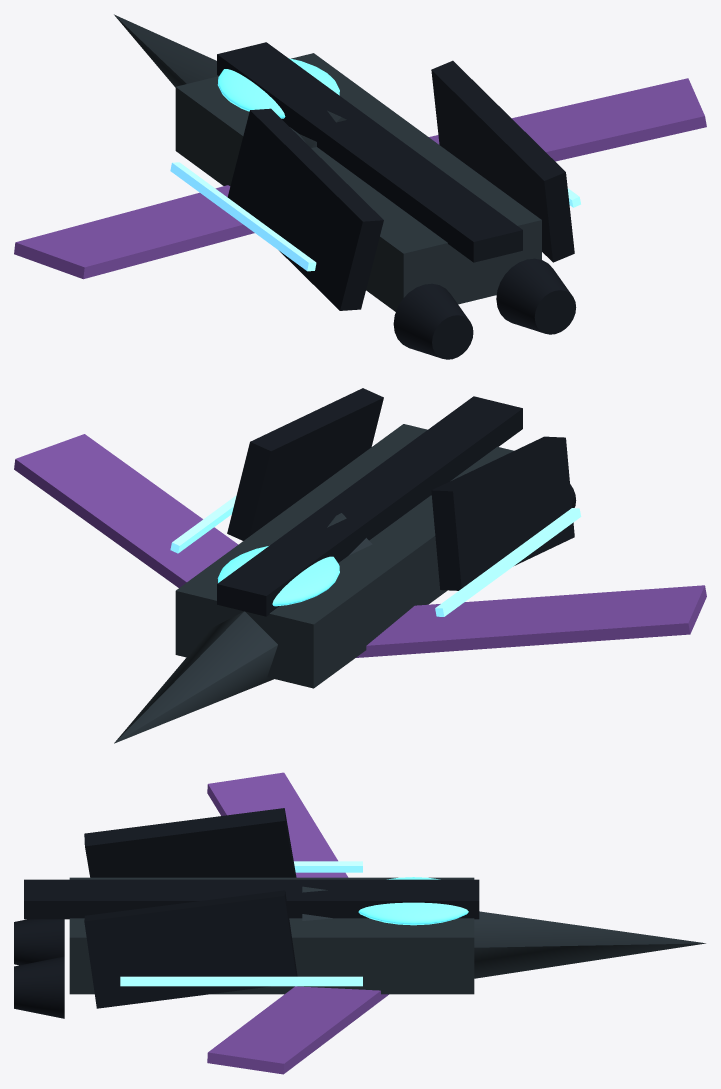
Rendered from veil-runner.glb.
3 views of the same model, one above another, from view 1: azimuth 30°, elevation 25°; view 2: azimuth 150°, elevation 25°; view 3: azimuth 270°, elevation 25° (orthographic). The views are drawn at different scales.
Parts seen in each view (by area): view 1: faceted stealth fuselage, black thermal spine, heat sink comb -1, heat sink comb 1, knife stealth wing -1, knife stealth wing 1, masked ion nozzle -1, masked ion nozzle 1, low observable needle prow, thin smuggler trim -1, flush dark canopy; view 2: faceted stealth fuselage, black thermal spine, knife stealth wing -1, heat sink comb -1, knife stealth wing 1, heat sink comb 1, low observable needle prow, thin smuggler trim -1, flush dark canopy, thin smuggler trim 1; view 3: heat sink comb 1, faceted stealth fuselage, black thermal spine, heat sink comb -1, knife stealth wing 1, low observable needle prow, knife stealth wing -1, masked ion nozzle 1, thin smuggler trim 1, masked ion nozzle -1, flush dark canopy, thin smuggler trim -1.
Boxes of the visible parts, x1=… form: faceted stealth fuselage: x1=175, y1=53, x2=541, y2=311; black thermal spine: x1=217, y1=42, x2=522, y2=262; heat sink comb -1: x1=227, y1=108, x2=383, y2=310; heat sink comb 1: x1=431, y1=60, x2=574, y2=262; knife stealth wing -1: x1=14, y1=185, x2=254, y2=279; knife stealth wing 1: x1=429, y1=78, x2=706, y2=161; masked ion nozzle -1: x1=393, y1=283, x2=473, y2=359; masked ion nozzle 1: x1=496, y1=258, x2=576, y2=334; low observable needle prow: x1=114, y1=14, x2=346, y2=148; thin smuggler trim -1: x1=170, y1=162, x2=316, y2=271; flush dark canopy: x1=217, y1=58, x2=339, y2=118; faceted stealth fuselage: x1=175, y1=424, x2=513, y2=688; black thermal spine: x1=217, y1=396, x2=522, y2=616; knife stealth wing -1: x1=356, y1=585, x2=706, y2=657; heat sink comb -1: x1=431, y1=436, x2=574, y2=590; knife stealth wing 1: x1=14, y1=434, x2=238, y2=587; heat sink comb 1: x1=227, y1=388, x2=383, y2=540; low observable needle prow: x1=114, y1=513, x2=372, y2=743; thin smuggler trim -1: x1=435, y1=508, x2=581, y2=616; flush dark canopy: x1=217, y1=546, x2=339, y2=606; thin smuggler trim 1: x1=170, y1=495, x2=236, y2=553; heat sink comb 1: x1=84, y1=890, x2=297, y2=1008; faceted stealth fuselage: x1=69, y1=877, x2=474, y2=994; black thermal spine: x1=24, y1=879, x2=479, y2=919; heat sink comb -1: x1=84, y1=808, x2=296, y2=877; knife stealth wing 1: x1=207, y1=986, x2=388, y2=1074; low observable needle prow: x1=302, y1=886, x2=705, y2=978; knife stealth wing -1: x1=207, y1=772, x2=348, y2=877; masked ion nozzle 1: x1=14, y1=956, x2=64, y2=1018; thin smuggler trim 1: x1=120, y1=976, x2=362, y2=986; masked ion nozzle -1: x1=14, y1=919, x2=64, y2=965; flush dark canopy: x1=358, y1=877, x2=468, y2=925; thin smuggler trim -1: x1=294, y1=861, x2=362, y2=872.
Size of the model in its own units: 63 by 14.24 by 63.02.
